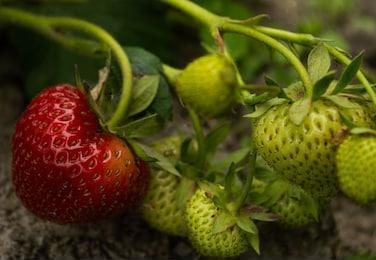Fresa: (8, 78, 155, 233)
